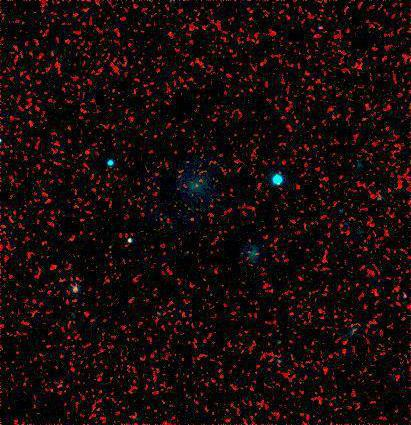star: (178, 201, 208, 231)
